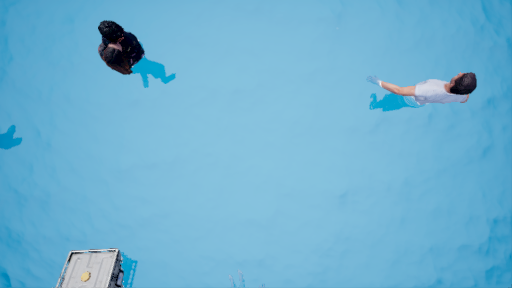person: (91, 21, 173, 98), (354, 67, 477, 115)
